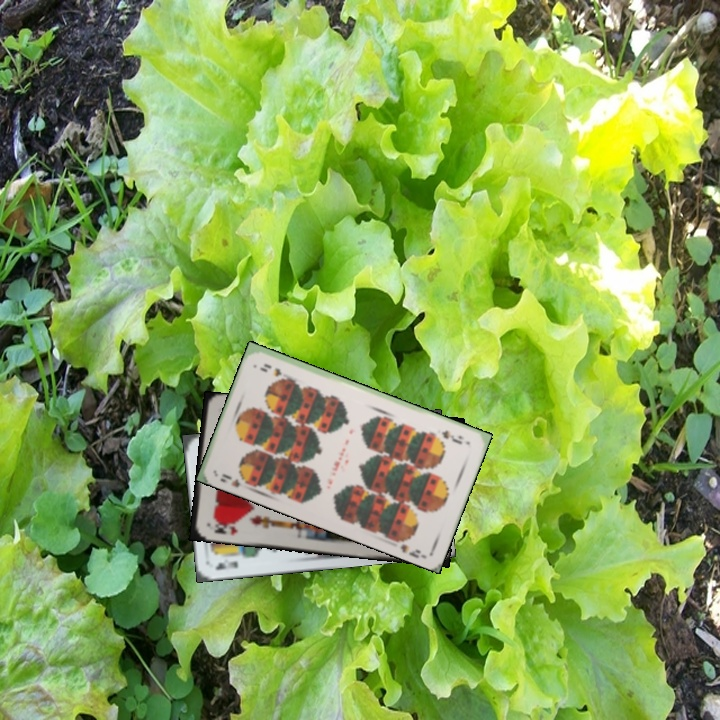EK: (212, 557, 241, 573)
HK: (210, 518, 240, 538)
S9: (218, 469, 253, 490), (437, 426, 466, 447)
